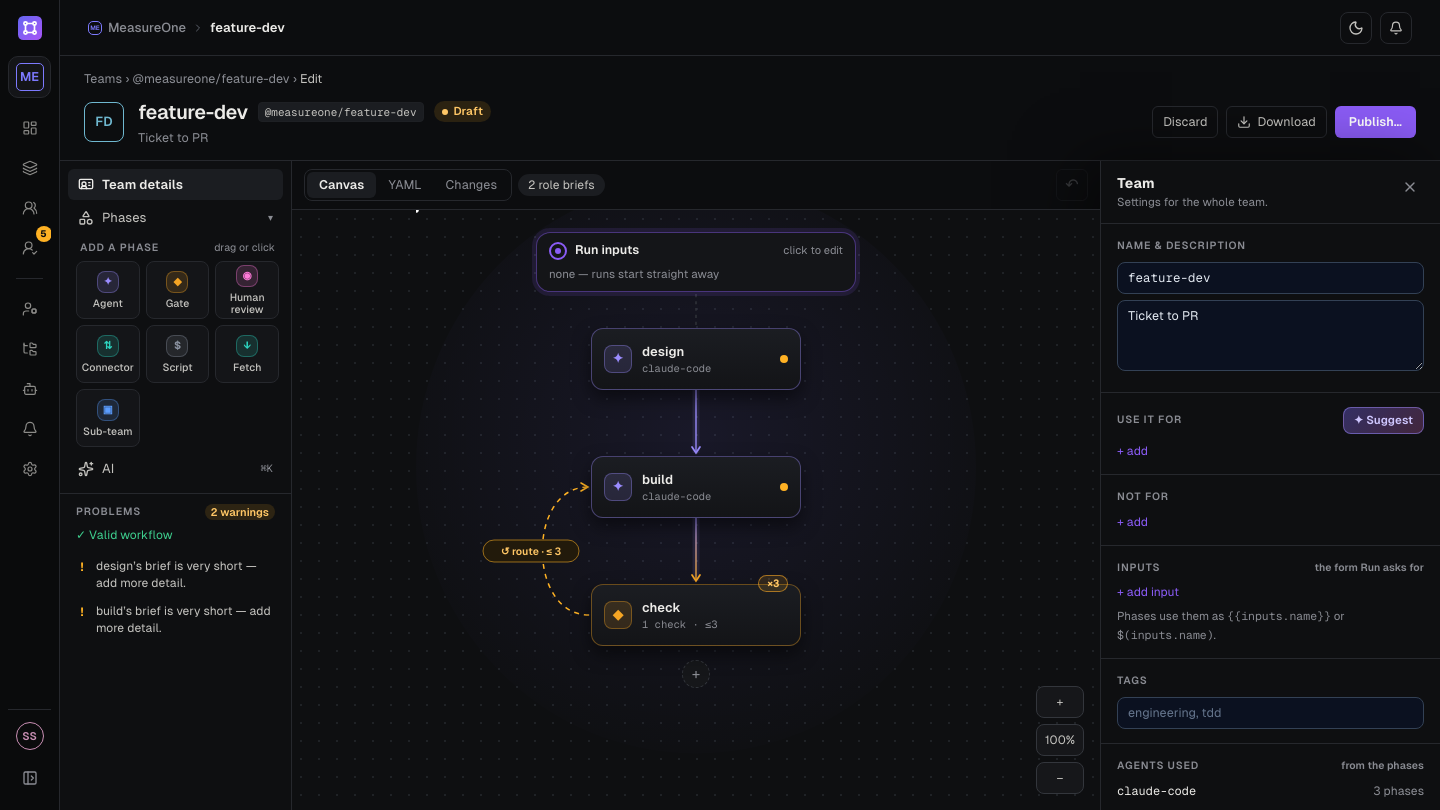
Graphite builder — workspace › AI chat: Discard leaves the team untouched
Expected: the element with test id "canvas" is shown, left=292, top=210, right=1100, bottom=809
Click the button with test id "ai-item" at [176, 469], box left=68, top=453, right=283, bottom=485
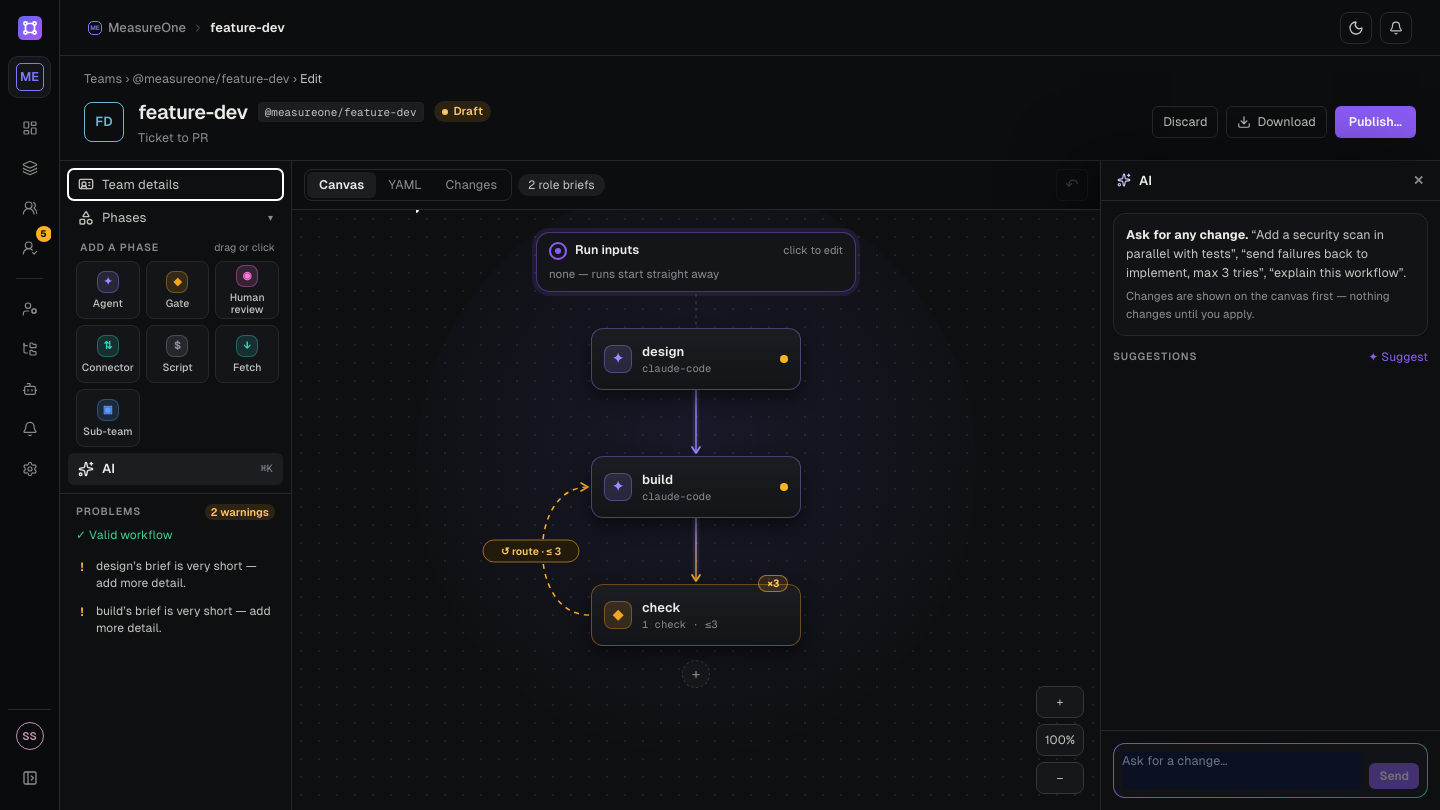
Type "remove the gate" into the text box named "Ask AI" at [1242, 770], box left=1122, top=752, right=1361, bottom=789
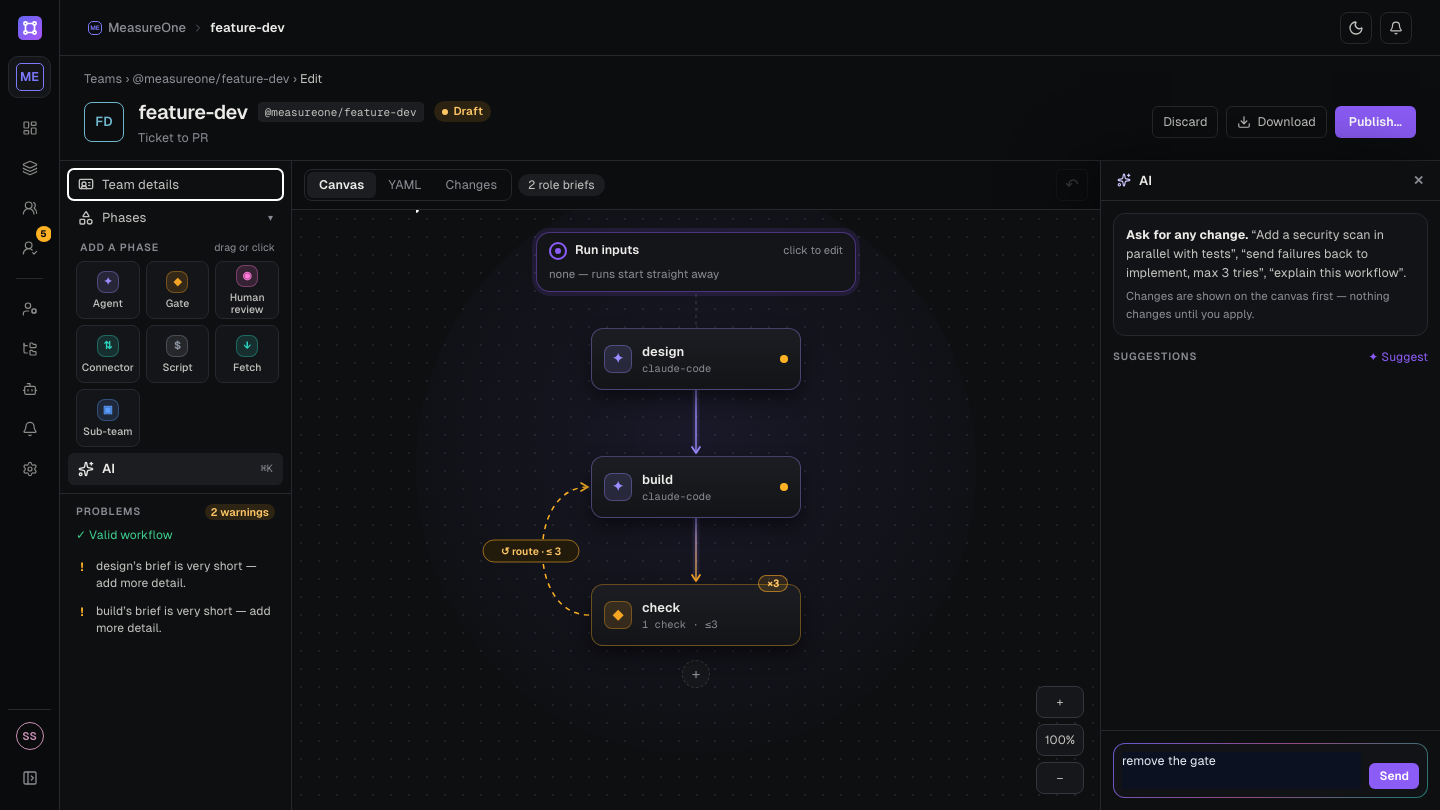
Click the button "Send" at [1394, 776], box left=1369, top=763, right=1419, bottom=789
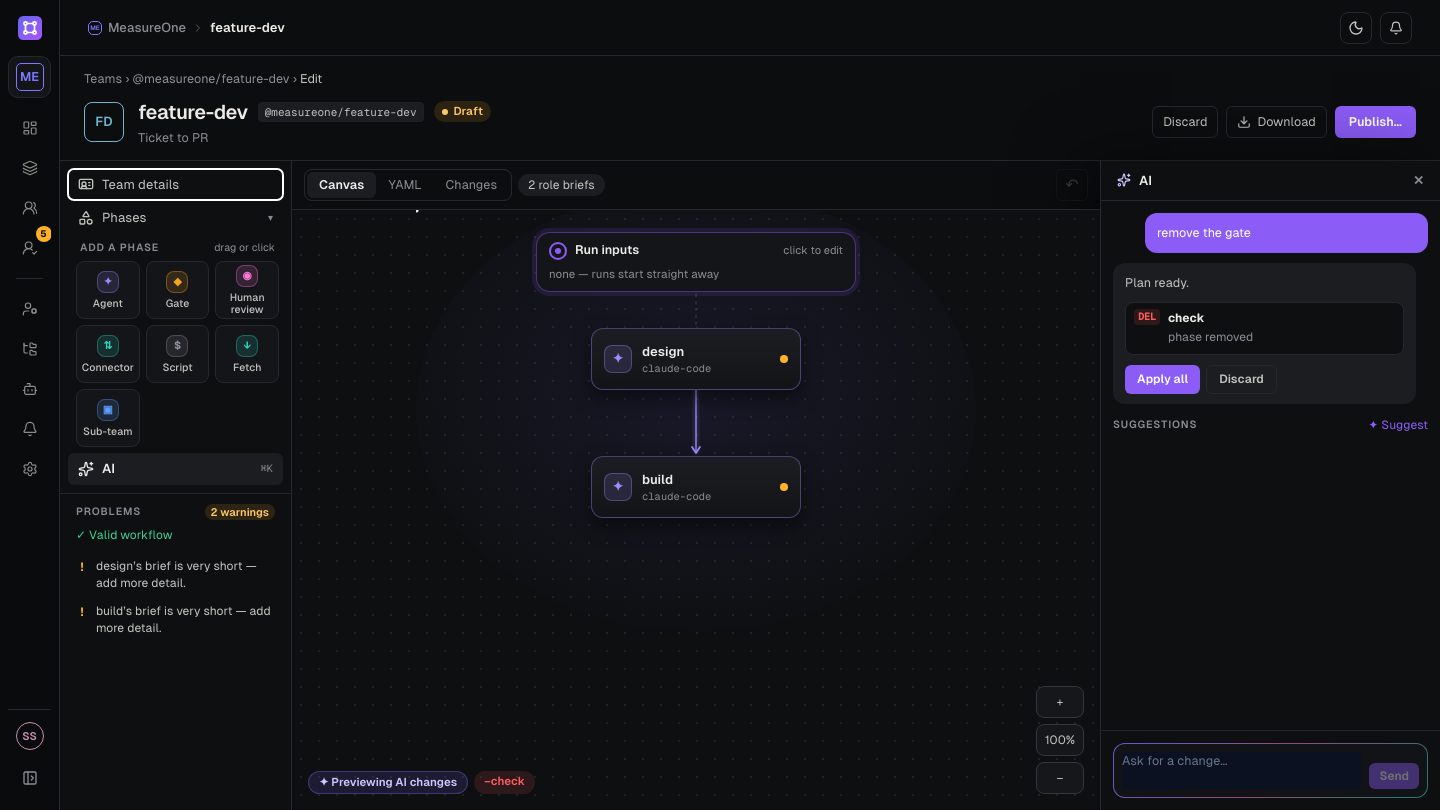
Result: the text "Plan ready." is shown at left=1125, top=275, right=1189, bottom=290
Click the button "Discard" below "phase removed" at [1242, 379], box left=1206, top=365, right=1277, bottom=394
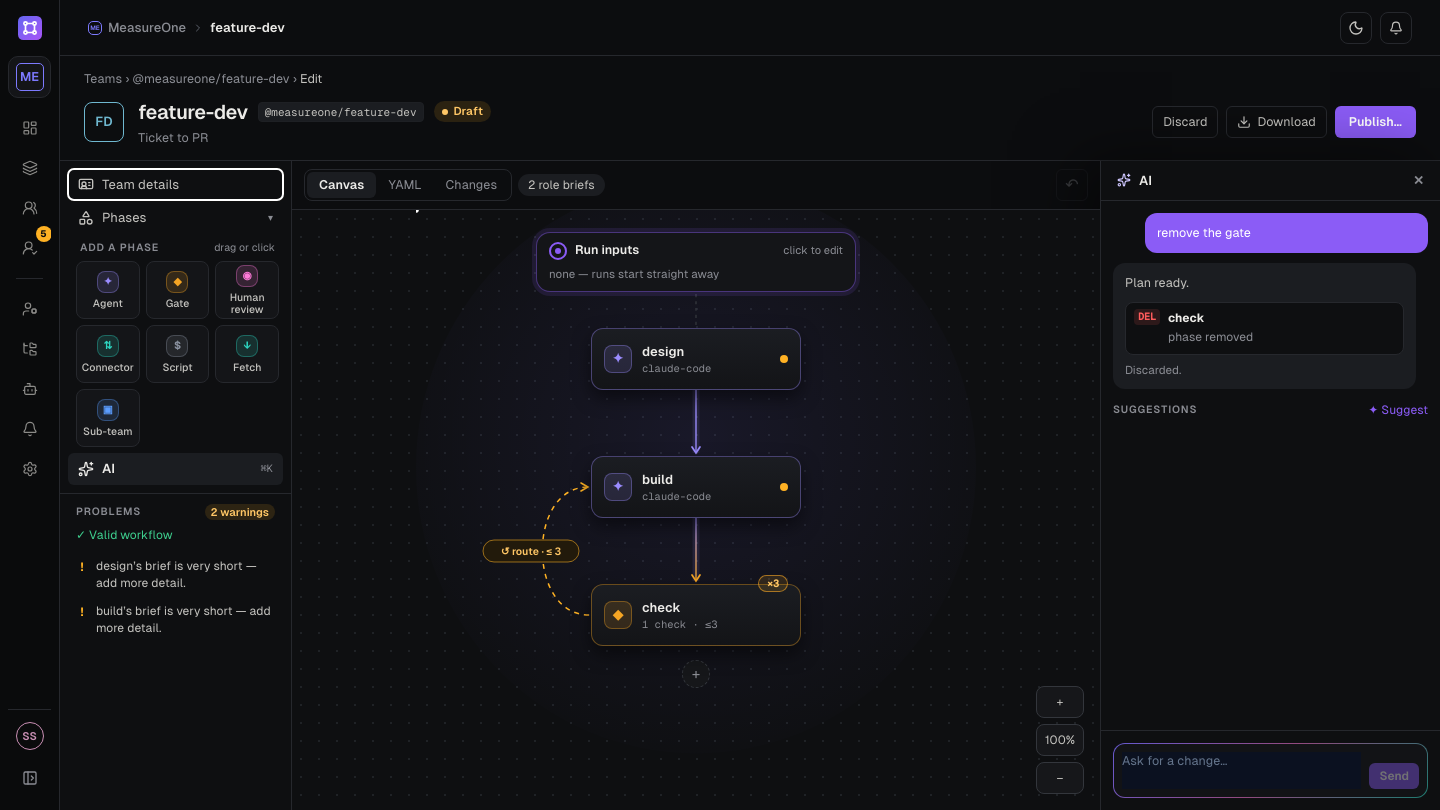
Result: the text "Discarded." is shown at left=1125, top=363, right=1181, bottom=377
